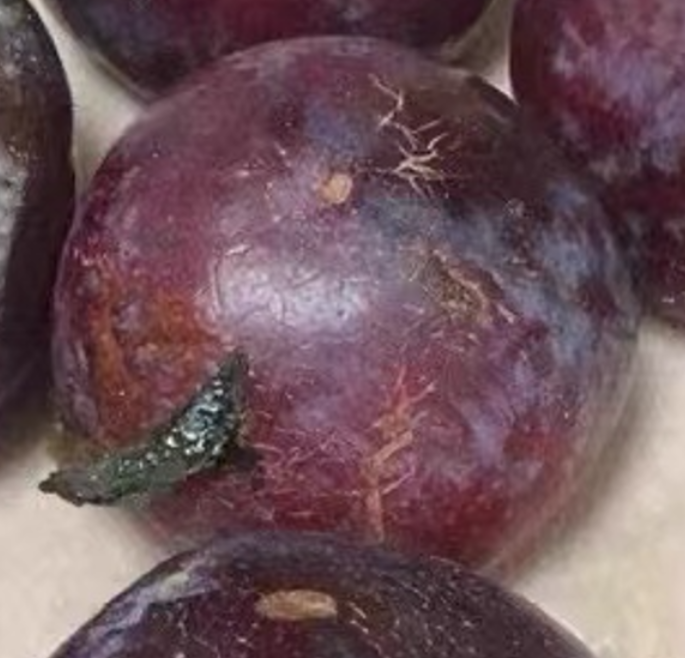plum_C: (46, 36, 644, 589)
